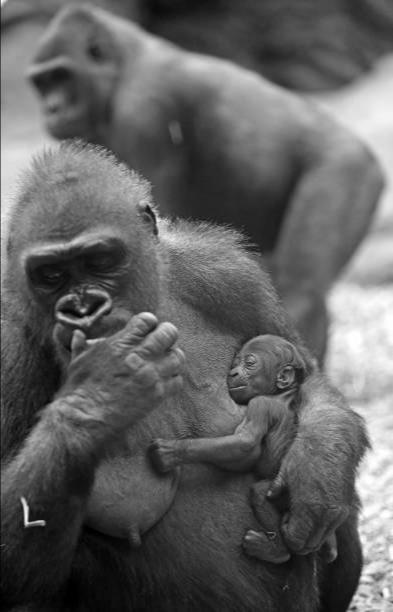gorille_Autres: (8, 165, 393, 612), (15, 0, 380, 198)
